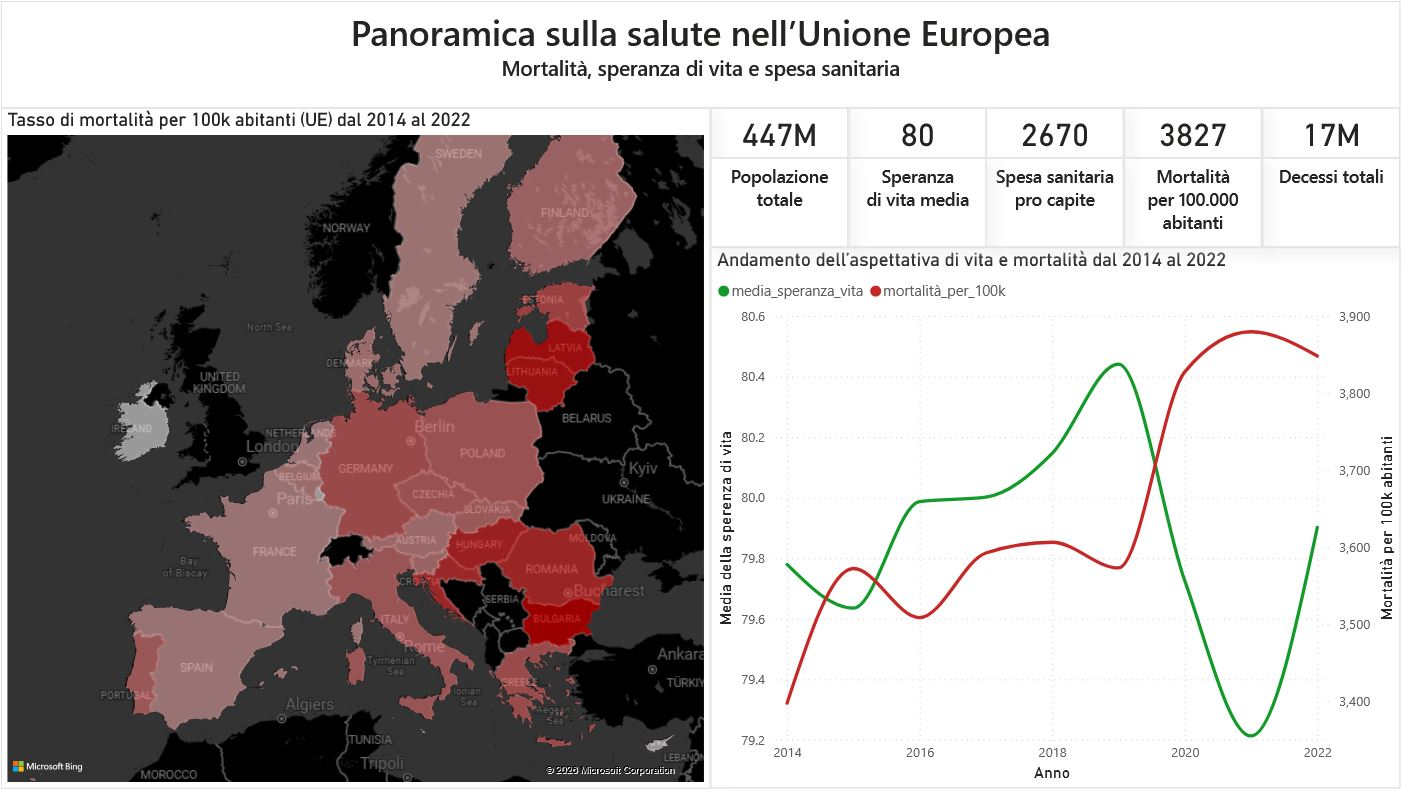

This screenshot's page, from the dashboard's own definition file:
{"tool":"powerbi","page":{"name":"Panoramica generale","canvas":[1280,720],"ordinal":0},"visuals":[{"type":"textbox","box":[0,0,1280,98],"z":0},{"type":"card","title":"Decessi totali","fields":{"Values":["Sum(health_data_eu_it fact_mortality.deaths)"]},"box":[1153.7,98,126.3,45.7],"z":1000},{"type":"card","fields":{"Values":["health_data_eu_it fact_mortality.mortality_per_100k"]},"box":[1027.5,98,126.3,45.7],"z":2000},{"type":"card","fields":{"Values":["Avg(health_data_eu_it fact_life_expectancy.life_expectancy)"]},"box":[775,98,126.3,45.7],"z":3000},{"type":"card","fields":{"Values":["Sum(health_data_eu_it fact_population.population)"]},"box":[648.7,98,126.3,45.7],"z":4000},{"type":"card","fields":{"Values":["Avg(health_data_eu_it fact_health_spending.health_spending)"]},"box":[901.2,98,126.3,45.7],"z":5000},{"type":"filledMap","title":"Tasso di mortalità per 100k abitanti (UE) dal 2014 al 2022","fields":{"Category":["health_data_eu_it dim_country.country_name"]},"box":[0,98,648.7,622.6],"z":6000},{"type":"lineChart","title":"Andamento dell’aspettativa di vita e mortalità dal 2014 al 2022","fields":{"Category":["health_data_eu_it dim_year.year"],"Y":["Avg(health_data_eu_it fact_life_expectancy.life_expectancy)"],"Y2":["health_data_eu_it fact_mortality.mortality_per_100k"]},"box":[649,225.2,631,495],"z":8000},{"type":"textbox","box":[1153.7,143.7,126.3,81.6],"z":9000},{"type":"textbox","box":[1027.5,143.7,126.3,81.6],"z":10000},{"type":"textbox","box":[901.2,143.7,126.3,81.6],"z":11000},{"type":"textbox","box":[775,143.7,126.3,81.6],"z":12000},{"type":"textbox","box":[648.7,143.7,126.3,81.6],"z":13000}]}

Visuals, with their boxes in screenshot pixels (x1, y1, x2, y2), scaled from the page's 1280x720 canvas onto the 1401x789 screenshot:
textbox: [left=0, top=0, right=1400, bottom=107]
"Decessi totali" card: [left=1263, top=107, right=1400, bottom=157]
card - health_data_eu_it fact_mortality.mortality_per_100k: [left=1125, top=107, right=1263, bottom=157]
card - Avg(health_data_eu_it fact_life_expectancy.life_expectancy): [left=848, top=107, right=987, bottom=157]
card - Sum(health_data_eu_it fact_population.population): [left=710, top=107, right=848, bottom=157]
card - Avg(health_data_eu_it fact_health_spending.health_spending): [left=986, top=107, right=1125, bottom=157]
"Tasso di mortalità per 100k abitanti (UE) dal 2014 al 2022" filledMap: [left=0, top=107, right=710, bottom=788]
"Andamento dell’aspettativa di vita e mortalità dal 2014 al 2022" lineChart: [left=710, top=247, right=1400, bottom=788]
textbox: [left=1263, top=157, right=1400, bottom=247]
textbox: [left=1125, top=157, right=1263, bottom=247]
textbox: [left=986, top=157, right=1125, bottom=247]
textbox: [left=848, top=157, right=987, bottom=247]
textbox: [left=710, top=157, right=848, bottom=247]
